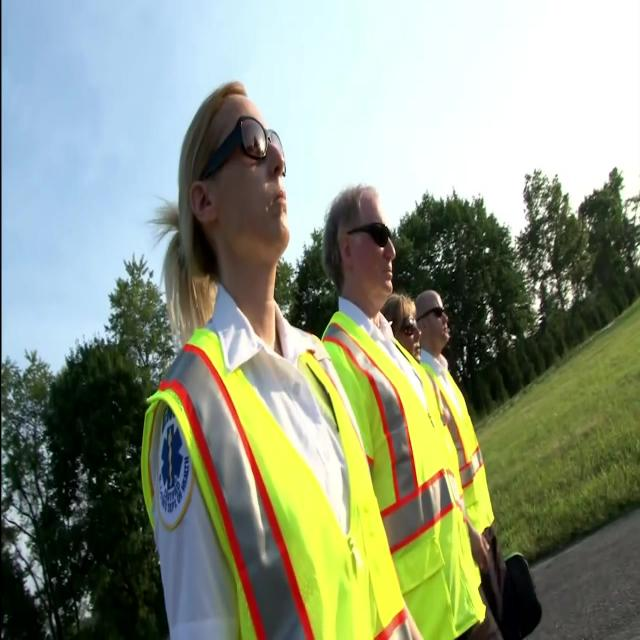Reflective-Jacket: (139, 316, 379, 638), (316, 313, 498, 640)
